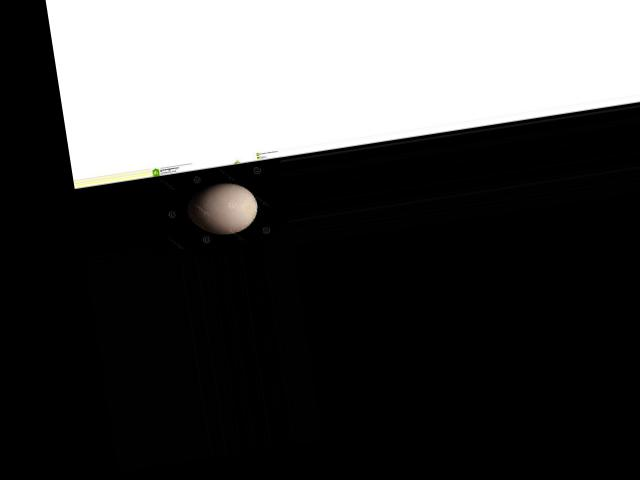egg: (184, 177, 261, 239)
